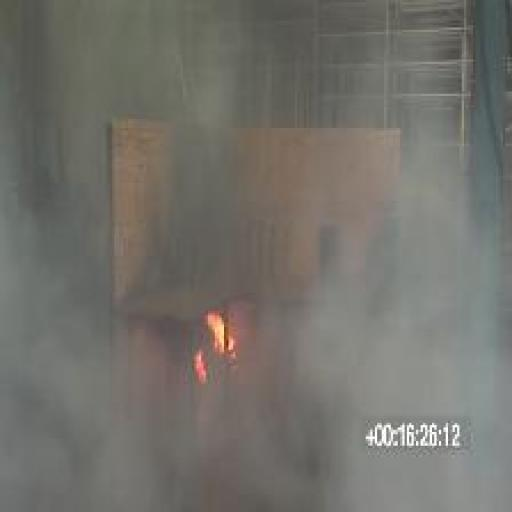fire: (203, 307, 239, 360), (190, 346, 210, 386)
